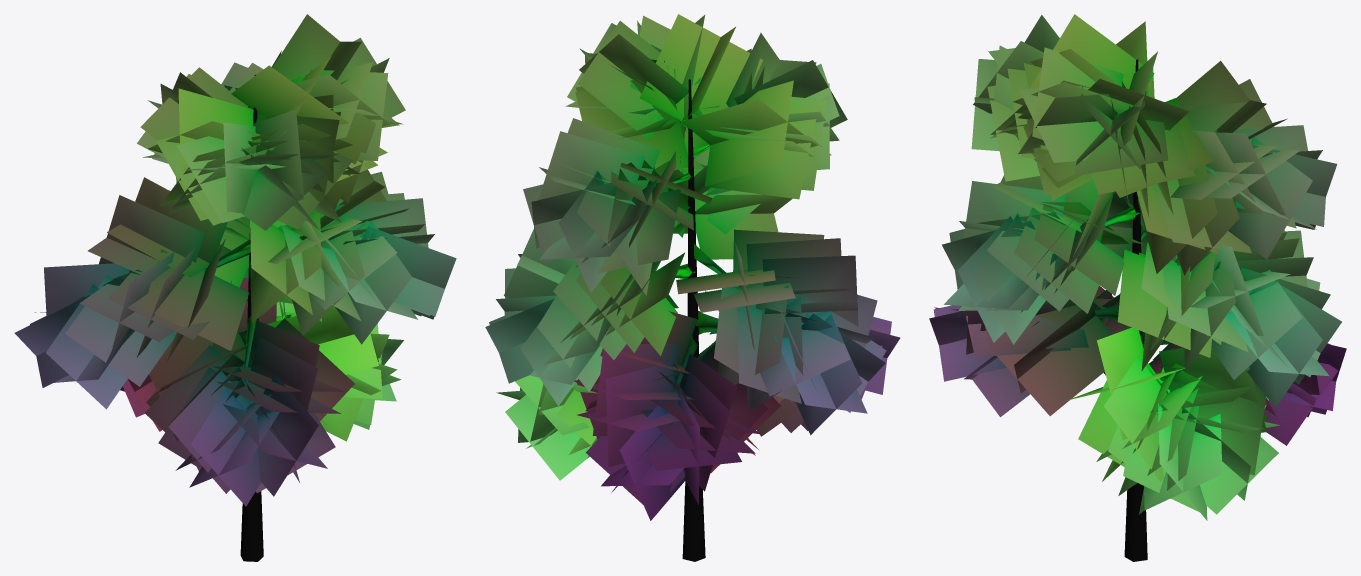
Rendered from URP_P14_Tree_2_LOD_3.fbx.
3 renders of one model, left to right at view 1: azimuth 30°, elevation 25°; view 2: azimuth 150°, elevation 25°; view 3: azimuth 270°, elevation 25°, orthographic. The views are drawn at different scales.
Parts seen in each view (by area): view 1: Tree_2_LOD_3; view 2: Tree_2_LOD_3; view 3: Tree_2_LOD_3.
Part boxes in pixels (x1,y1,x2,y2): Tree_2_LOD_3: (14,14,456,561); Tree_2_LOD_3: (485,14,900,561); Tree_2_LOD_3: (929,14,1346,561).
Bounding box in the file's own units: 415 × 562 × 395.
